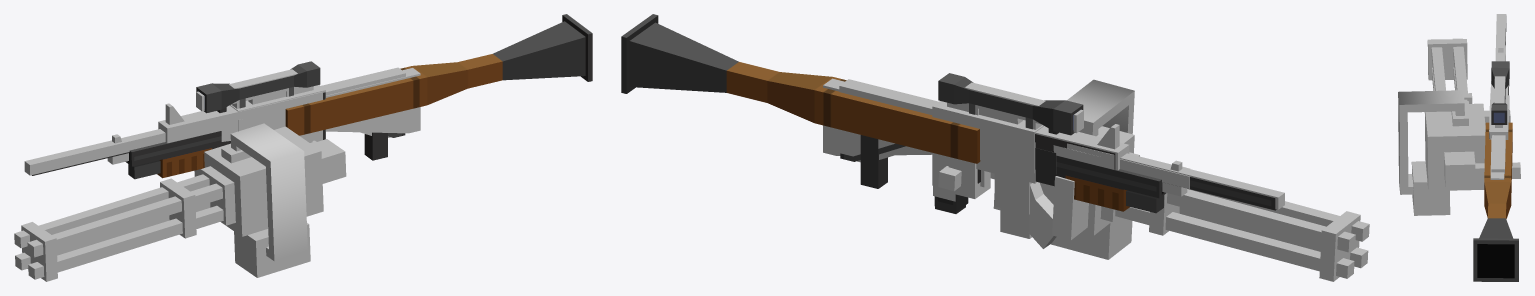
Rendered from SimpleMilitary_Weapons.fbx.
3 renders of one model, left to right at view 1: azimuth 30°, elevation 25°; view 2: azimuth 150°, elevation 25°; view 3: azimuth 270°, elevation 25°, orthographic. The views are drawn at different scales.
Visible parts, largest first — view 1: Weapon_Minigun, Weapon_RPG, Weapon_MinigunBarrel, Weapon_Rifle, Weapon_Shotgun, Weapon_SniperRifle, Weapon_AssultRifle02; view 2: Weapon_RPG, Weapon_MinigunBarrel, Weapon_AssultRifle02, Weapon_Minigun, Weapon_SniperRifle, Weapon_Rifle, Weapon_Shotgun, Weapon_AssultRifle01, Weapon_SubMachineGun, Weapon_SmokeBomb; view 3: Weapon_Minigun, Weapon_RPG, Weapon_MinigunBarrel, Weapon_AssultRifle02, Weapon_Rifle, Weapon_SniperRifle.
Part boxes in pixels (<box>): Weapon_Minigun: <box>194,123,346,277</box>; Weapon_RPG: <box>217,14,592,160</box>; Weapon_MinigunBarrel: <box>14,166,235,281</box>; Weapon_Rifle: <box>24,68,420,175</box>; Weapon_Shotgun: <box>125,131,230,179</box>; Weapon_SniperRifle: <box>32,61,405,175</box>; Weapon_AssultRifle02: <box>165,67,405,124</box>; Weapon_RPG: <box>621,14,1058,213</box>; Weapon_MinigunBarrel: <box>1100,152,1369,281</box>; Weapon_AssultRifle02: <box>839,79,1190,214</box>; Weapon_Minigun: <box>938,79,1134,259</box>; Weapon_SniperRifle: <box>840,73,1276,210</box>; Weapon_Rifle: <box>823,78,1284,209</box>; Weapon_Shotgun: <box>956,155,1166,213</box>; Weapon_AssultRifle01: <box>857,145,1187,248</box>; Weapon_SubMachineGun: <box>933,142,1036,238</box>; Weapon_SmokeBomb: <box>949,157,990,198</box>; Weapon_Minigun: <box>1398,90,1520,215</box>; Weapon_RPG: <box>1473,122,1518,281</box>; Weapon_MinigunBarrel: <box>1427,38,1472,103</box>; Weapon_AssultRifle02: <box>1489,46,1509,173</box>; Weapon_Rifle: <box>1489,14,1507,179</box>; Weapon_SniperRifle: <box>1489,16,1509,138</box>.
Bounding box in the file's own units: 399 × 98.7 × 83.53.
